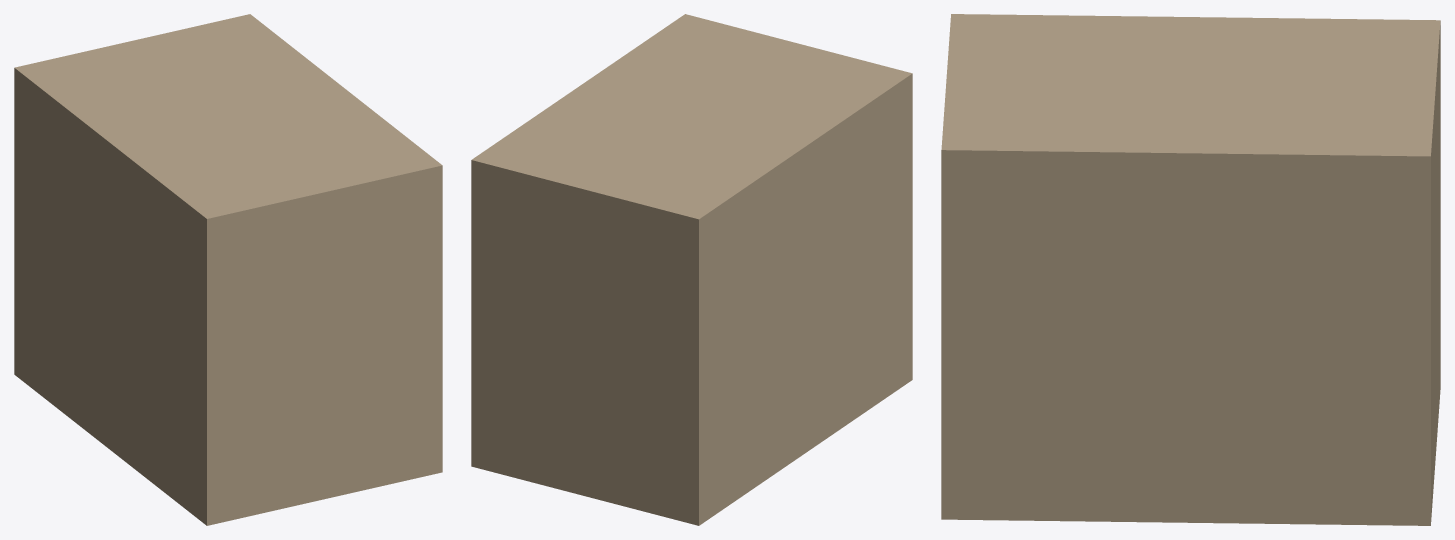
File: bld_101374802.dae
3 views of the same model, side by side, from view 1: azimuth 30°, elevation 25°; view 2: azimuth 150°, elevation 25°; view 3: azimuth 270°, elevation 25° (orthographic). The views are drawn at different scales.
Visible parts, largest first — view 1: bld_101374802; view 2: bld_101374802; view 3: bld_101374802.
Part boxes in pixels (x1,y1,x2,y2): bld_101374802: (14, 14, 442, 525); bld_101374802: (471, 14, 912, 525); bld_101374802: (941, 14, 1440, 525).
Bounding box in the file's own units: 6.62 × 9.79 × 8.
